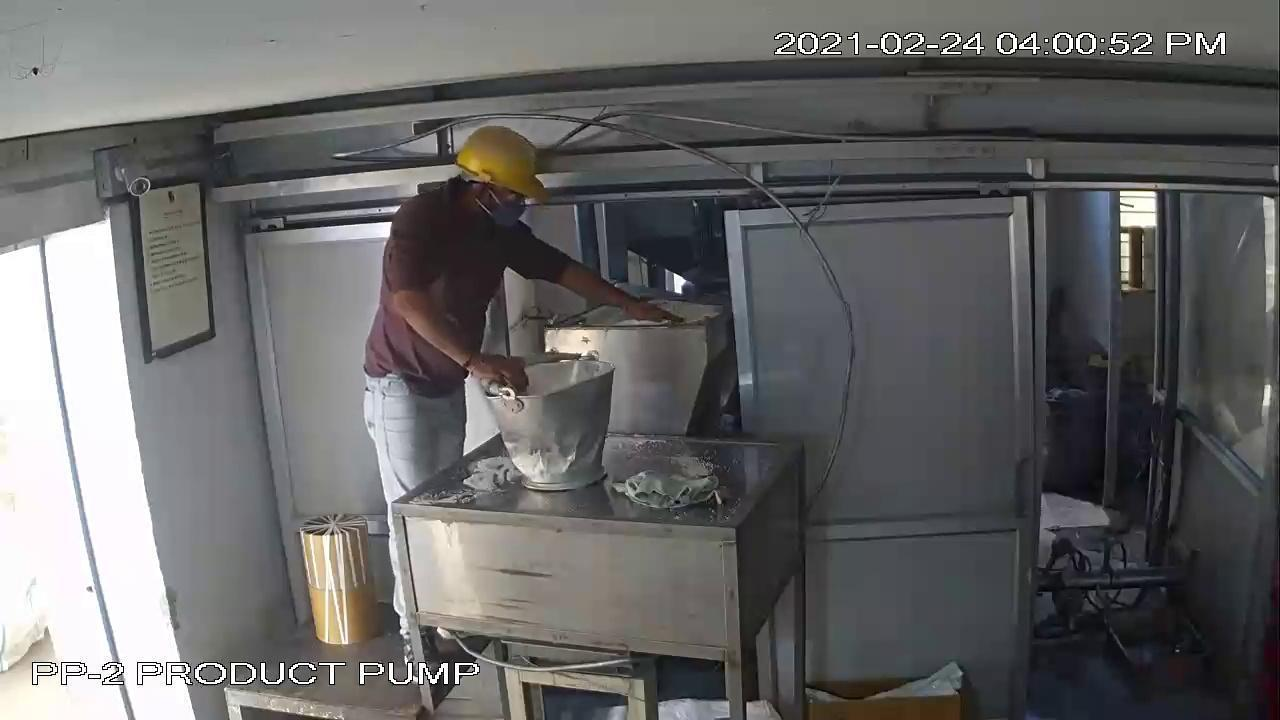helmet: (455, 120, 551, 201)
